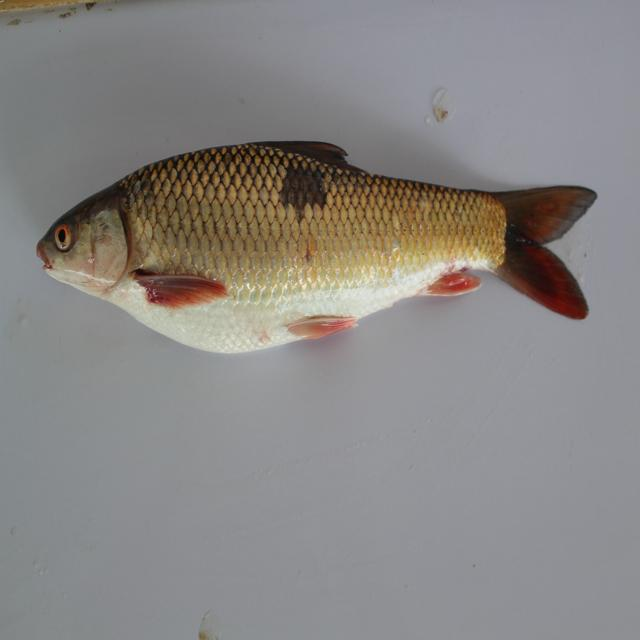Mori: (29, 132, 595, 360)
